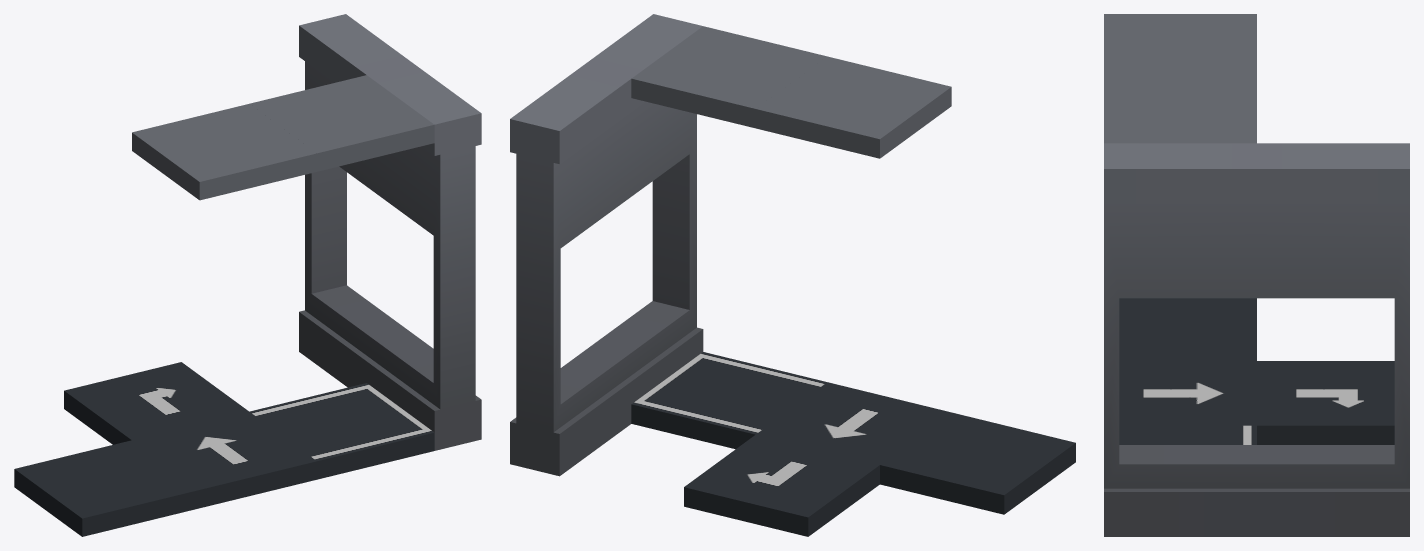
File: parkingRoad.fbx
The picture shows the model from 3 angles, left to right: view 1: azimuth 30°, elevation 25°; view 2: azimuth 150°, elevation 25°; view 3: azimuth 270°, elevation 25°; orthographic projection. The views are drawn at different scales.
Visible parts, largest first — view 1: Cube.003, Cube.004, Cube.002, Cube.006, Cube, Cube.007, Cube.001, Cube.005; view 2: Cube.004, Cube.003, Cube.006, Cube.002, Cube.005, Cube.007, Cube.001, Cube; view 3: Cube.003, Cube.004, Cube.005, Cube.007, Cube.006, Cube, Cube.002, Cube.001.
Boxes of the visible parts, box(x1,y1,x2,y2) form: Cube.003: box(366, 63, 481, 450); Cube.004: box(299, 14, 413, 387); Cube.002: box(14, 440, 199, 536); Cube.006: box(132, 104, 316, 200); Cube: box(132, 411, 316, 507); Cube.007: box(249, 75, 434, 171); Cube.001: box(249, 383, 434, 479); Cube.005: box(64, 362, 248, 444); Cube.004: box(510, 66, 631, 476); Cube.003: box(582, 14, 703, 403); Cube.006: box(755, 56, 951, 158); Cube.002: box(880, 412, 1075, 514); Cube.005: box(684, 435, 879, 536); Cube.007: box(631, 26, 826, 128); Cube.001: box(631, 352, 826, 449); Cube: box(756, 382, 951, 464); Cube.003: box(1104, 143, 1256, 536); Cube.004: box(1257, 143, 1409, 536); Cube.005: box(1257, 361, 1394, 444); Cube.007: box(1104, 78, 1256, 143); Cube.006: box(1104, 14, 1256, 78); Cube: box(1119, 361, 1256, 425); Cube.002: box(1119, 298, 1256, 360); Cube.001: box(1119, 425, 1256, 444).
Size of the model in its own units: 6.8 by 5.31 by 4.
Materials: 2 (1 with a texture image).
